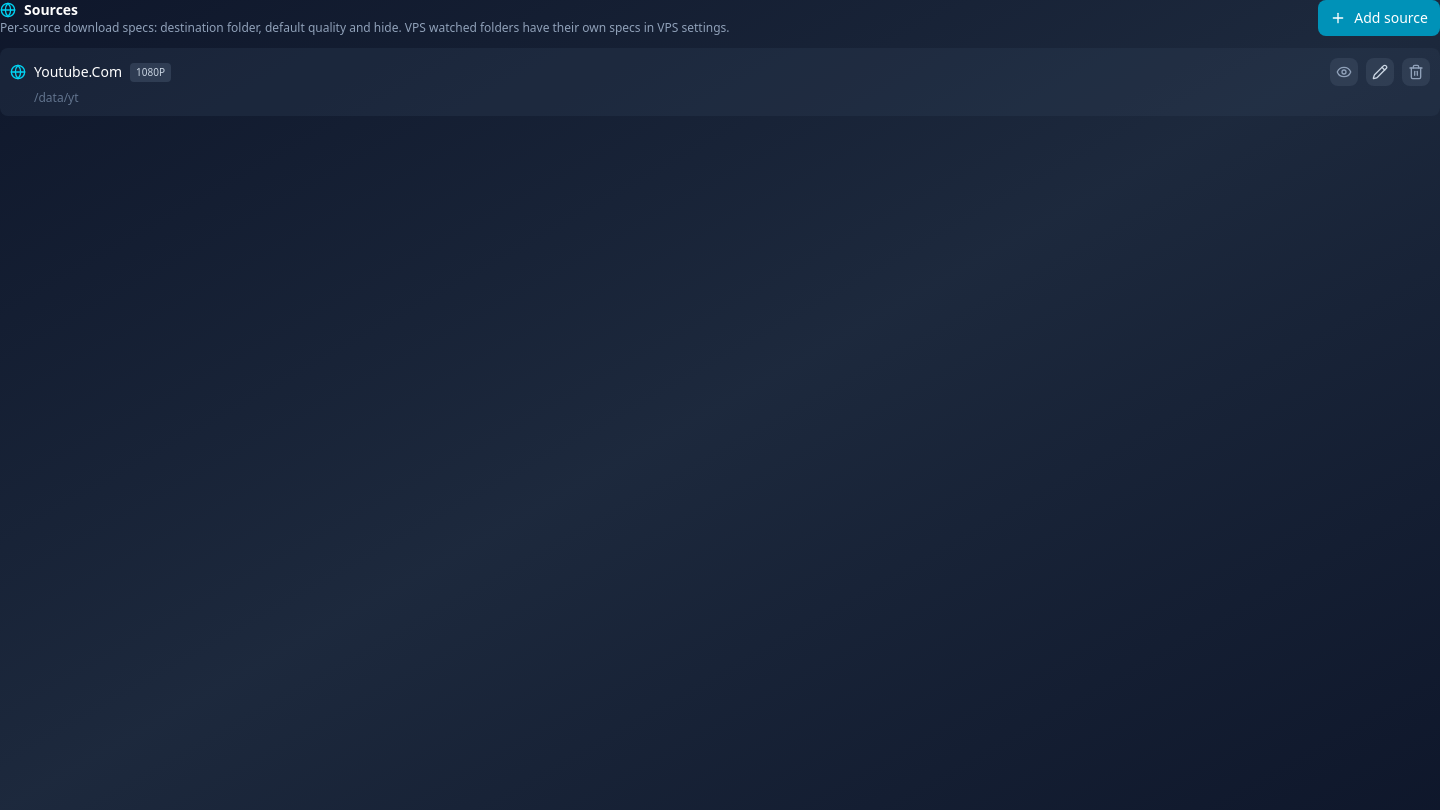
Test: SourcesSettings - edit, hide, delete › deleting asks first, then removes the spec and tells the parent
This screenshot has width=1440, height=810.
Later steps or results of the test are not shown.
Click the button titled "Delete source": (1416, 72) [1402,58,1430,86]
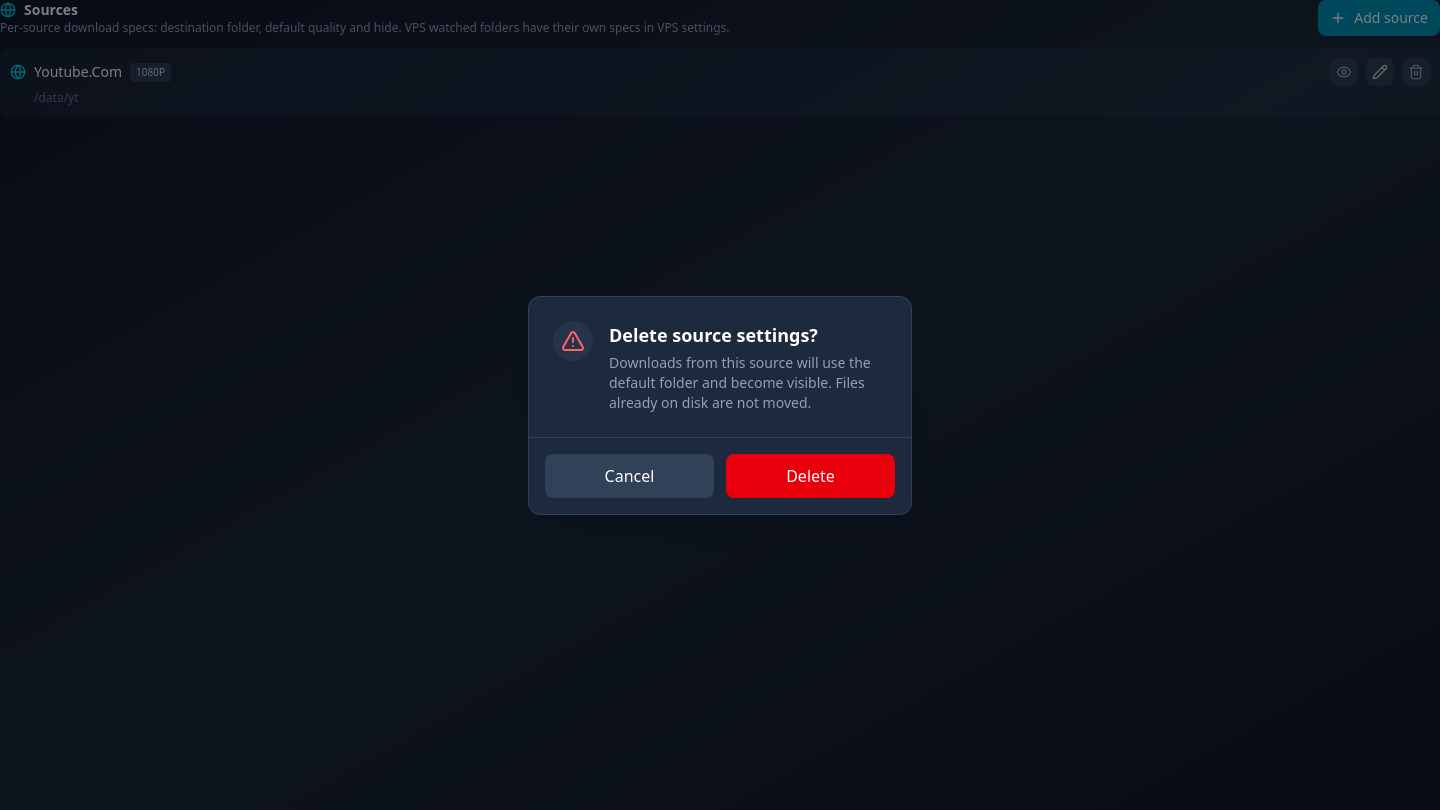
Expected: the heading "Delete source settings?" is shown, [609,322,818,346]
